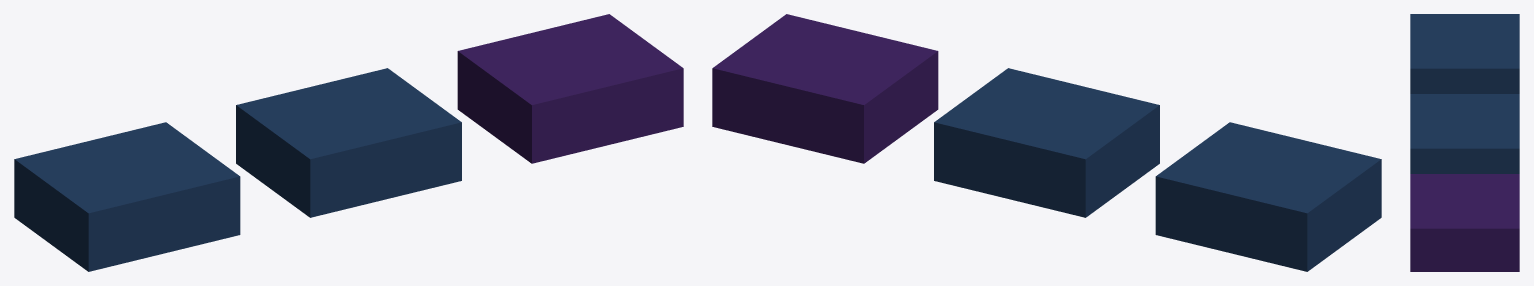
Rendered from logic-gates.glb.
3 views of the same model, side by side, from view 1: azimuth 30°, elevation 25°; view 2: azimuth 150°, elevation 25°; view 3: azimuth 270°, elevation 25° (orthographic). The views are drawn at different scales.
Visible parts, largest first — view 1: LogicGates; view 2: LogicGates; view 3: LogicGates.
Part boxes in pixels (left/top/right/bottom): LogicGates: left=14, top=14, right=683, bottom=271; LogicGates: left=712, top=14, right=1381, bottom=271; LogicGates: left=1410, top=14, right=1519, bottom=271.
Size of the model in its own units: 2.55 by 0.24 by 0.55.
